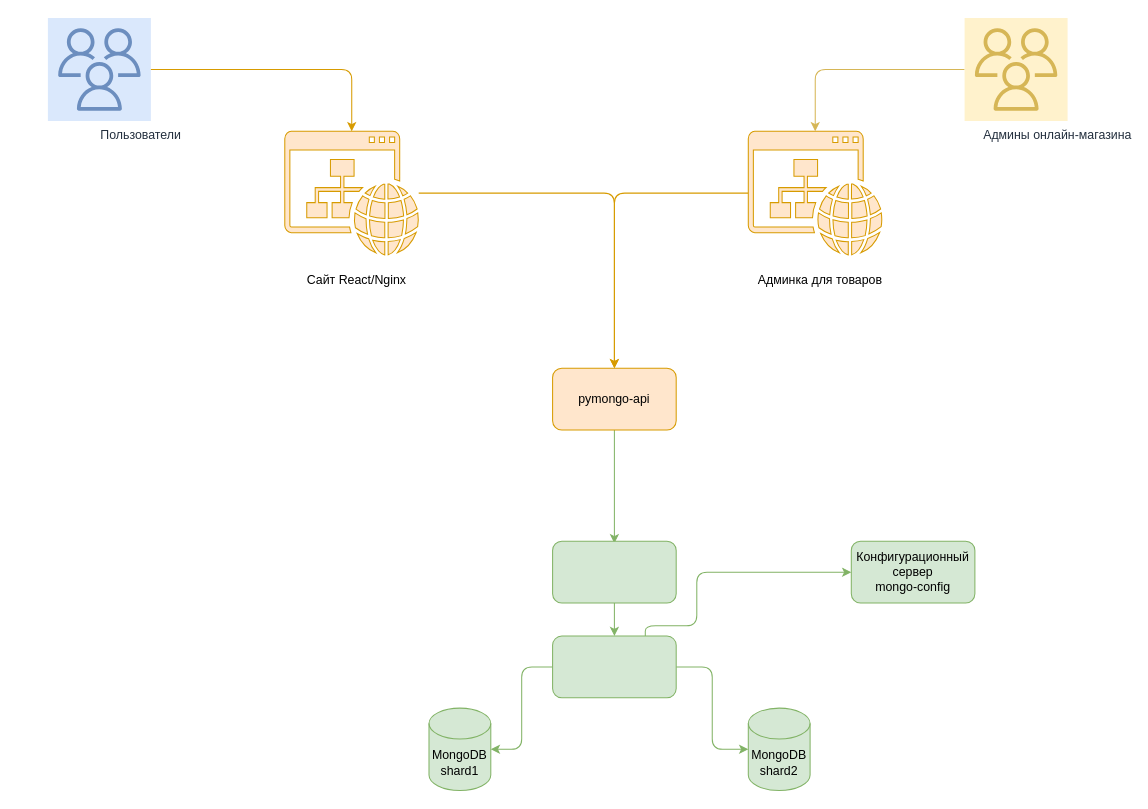
The diagram is 1148 pixels wide and 809 high, and some of its shapes have lost their labels. The shapes that lost their labels are listed below. From the top down, each one's centre as x and y in pixels, then its label:
(614,571): Драйвер
(614,666): Роутер mongo-router
